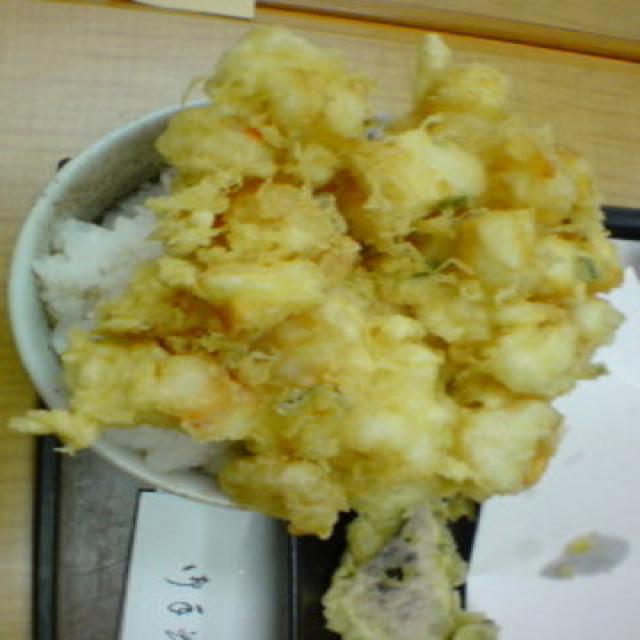熟制海鲜: (13, 29, 636, 640)
